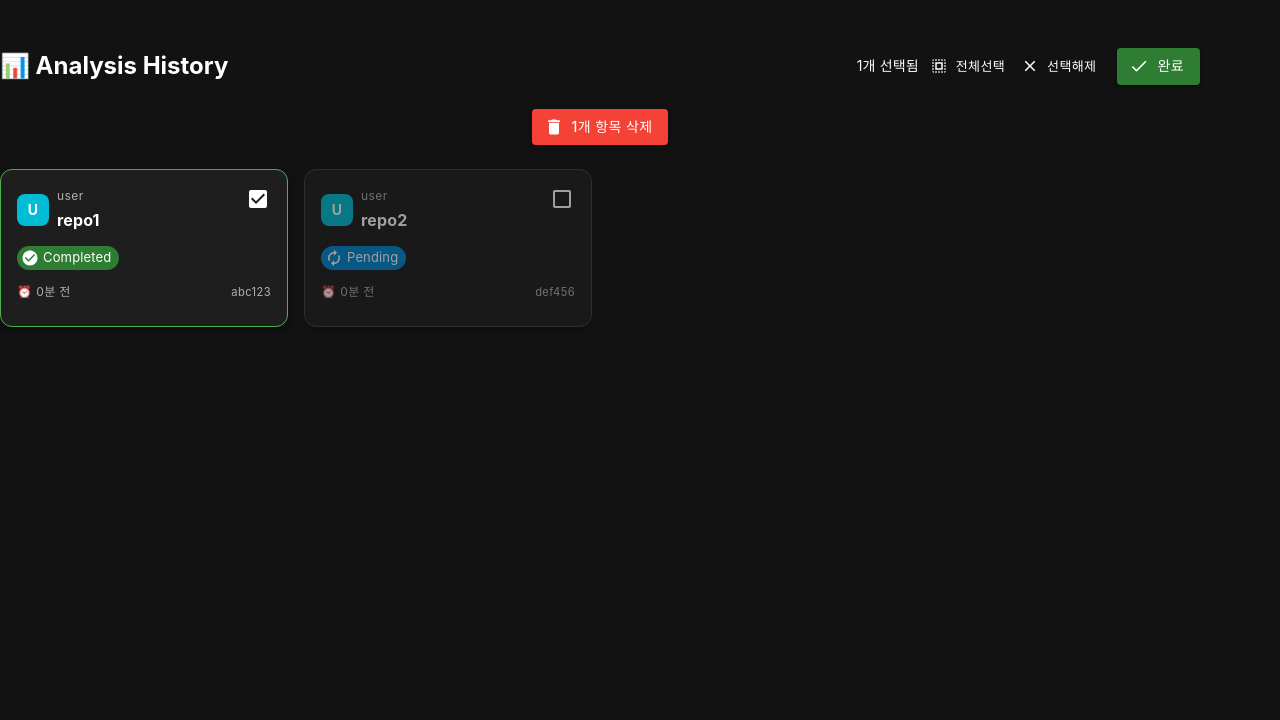
HistoryList Delete Functionality › closes delete dialog when cancelled
The width and height of the screenshot is (1280, 720).
Note: Open delete dialog
Click the button "1개 항목 삭제" at (600, 127), box [532, 108, 668, 145]
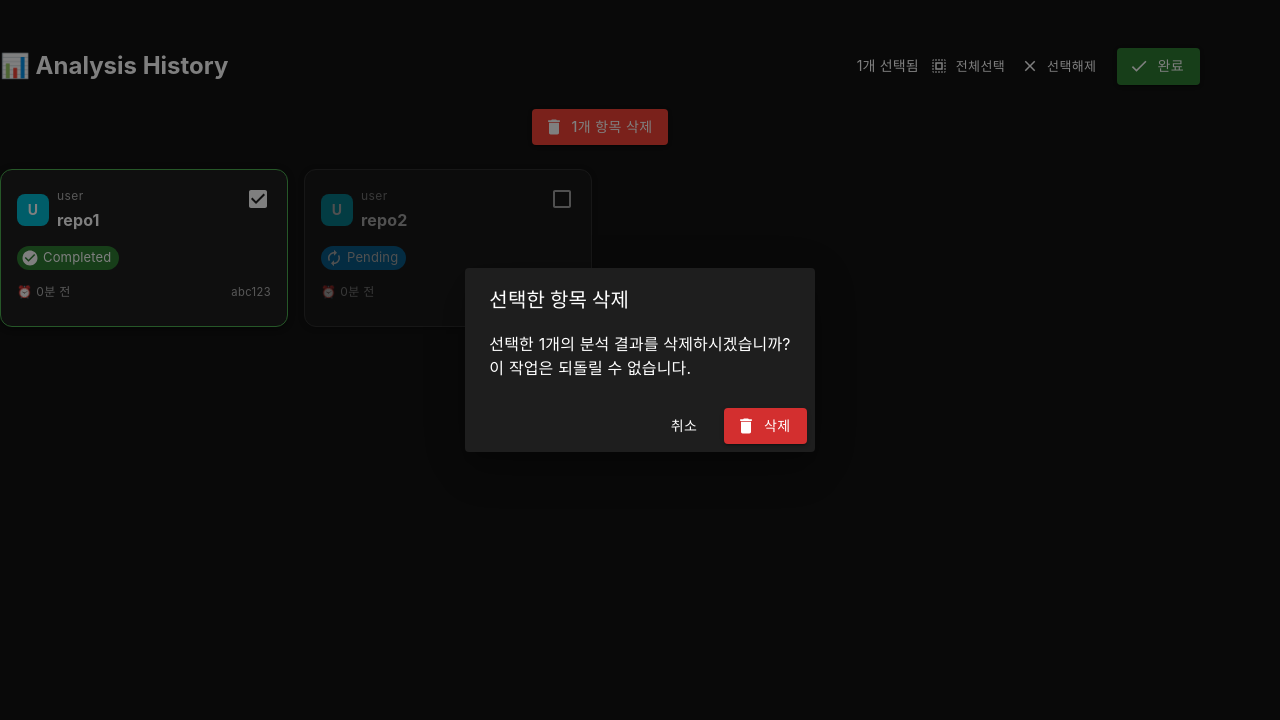
Result: the heading "선택한 항목 삭제" is shown at [489, 288, 629, 312]
Click the button "취소" at (684, 426), box [652, 408, 716, 444]
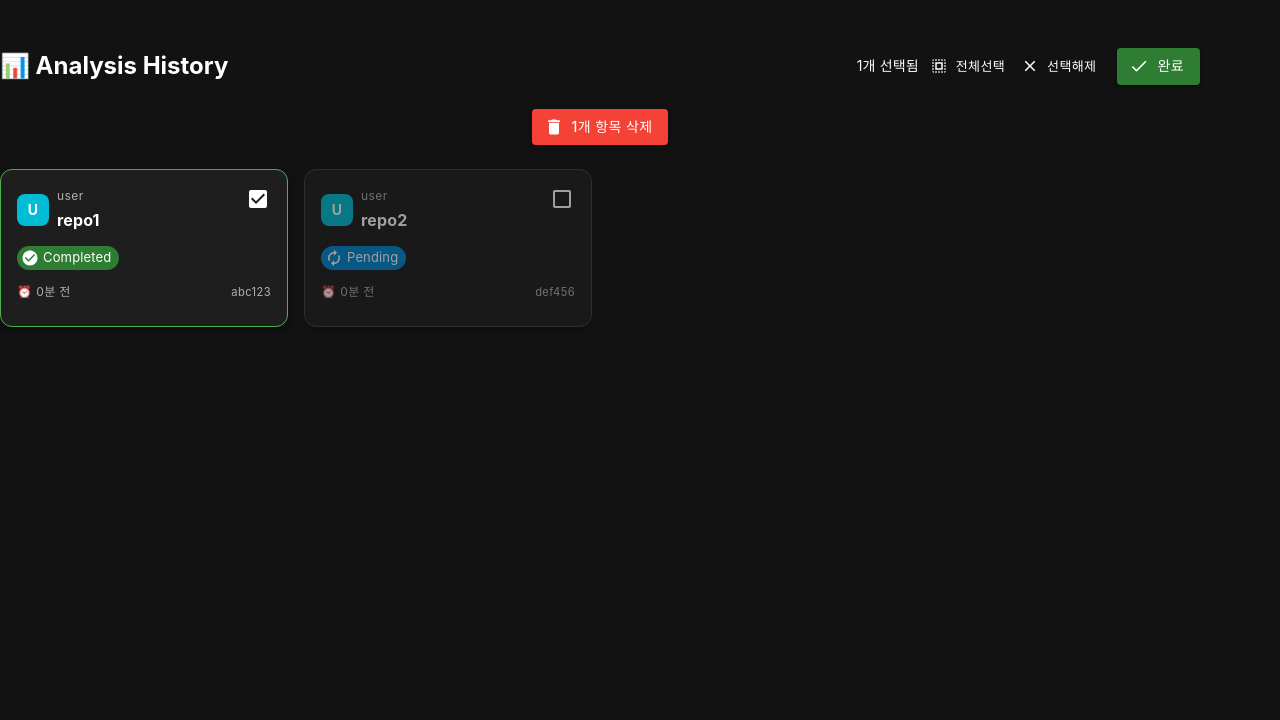
Result: the heading "선택한 항목 삭제" is gone
